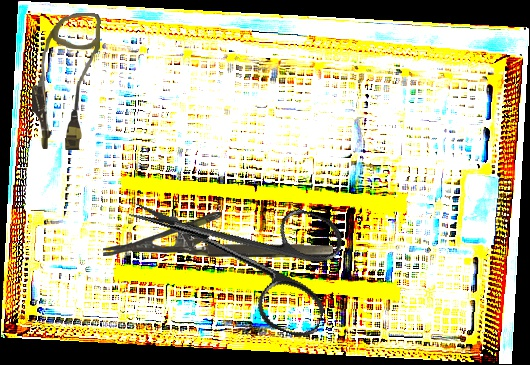Cannula: (30, 11, 101, 151)
Iris Scissors: (109, 154, 355, 343)
Needle Holder: (102, 209, 334, 261)
